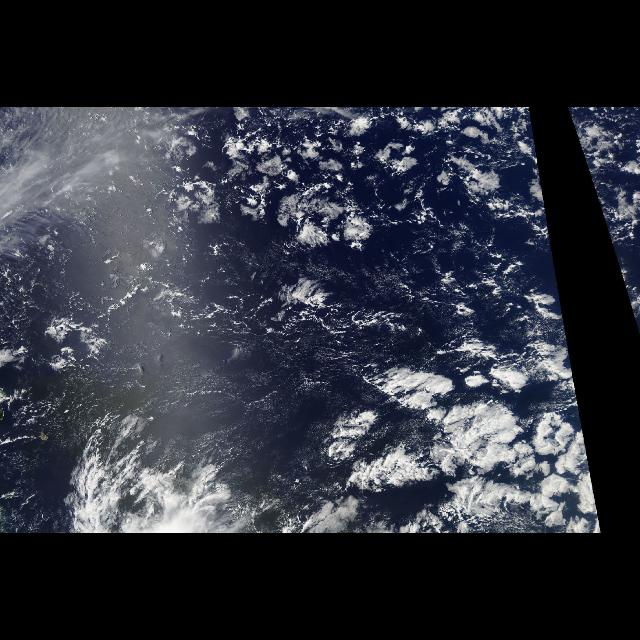Flower: (130, 112, 498, 284), (356, 336, 602, 530)
Sugar: (7, 294, 466, 476)
